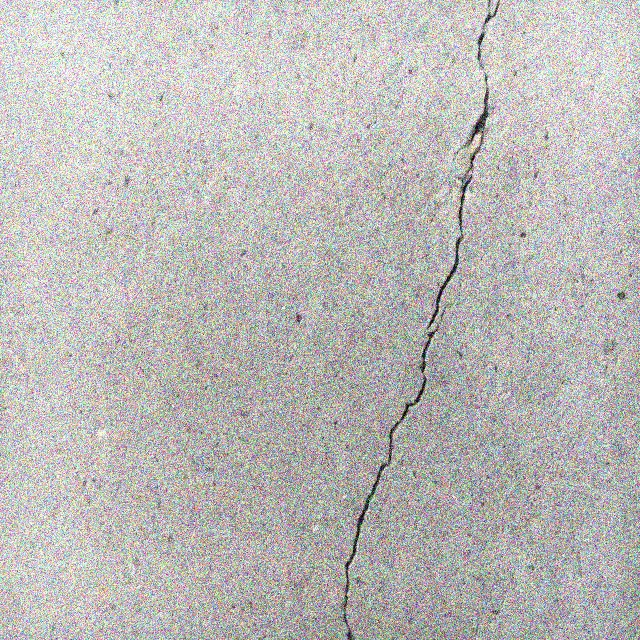SurfaceCrack: (313, 1, 530, 640)
